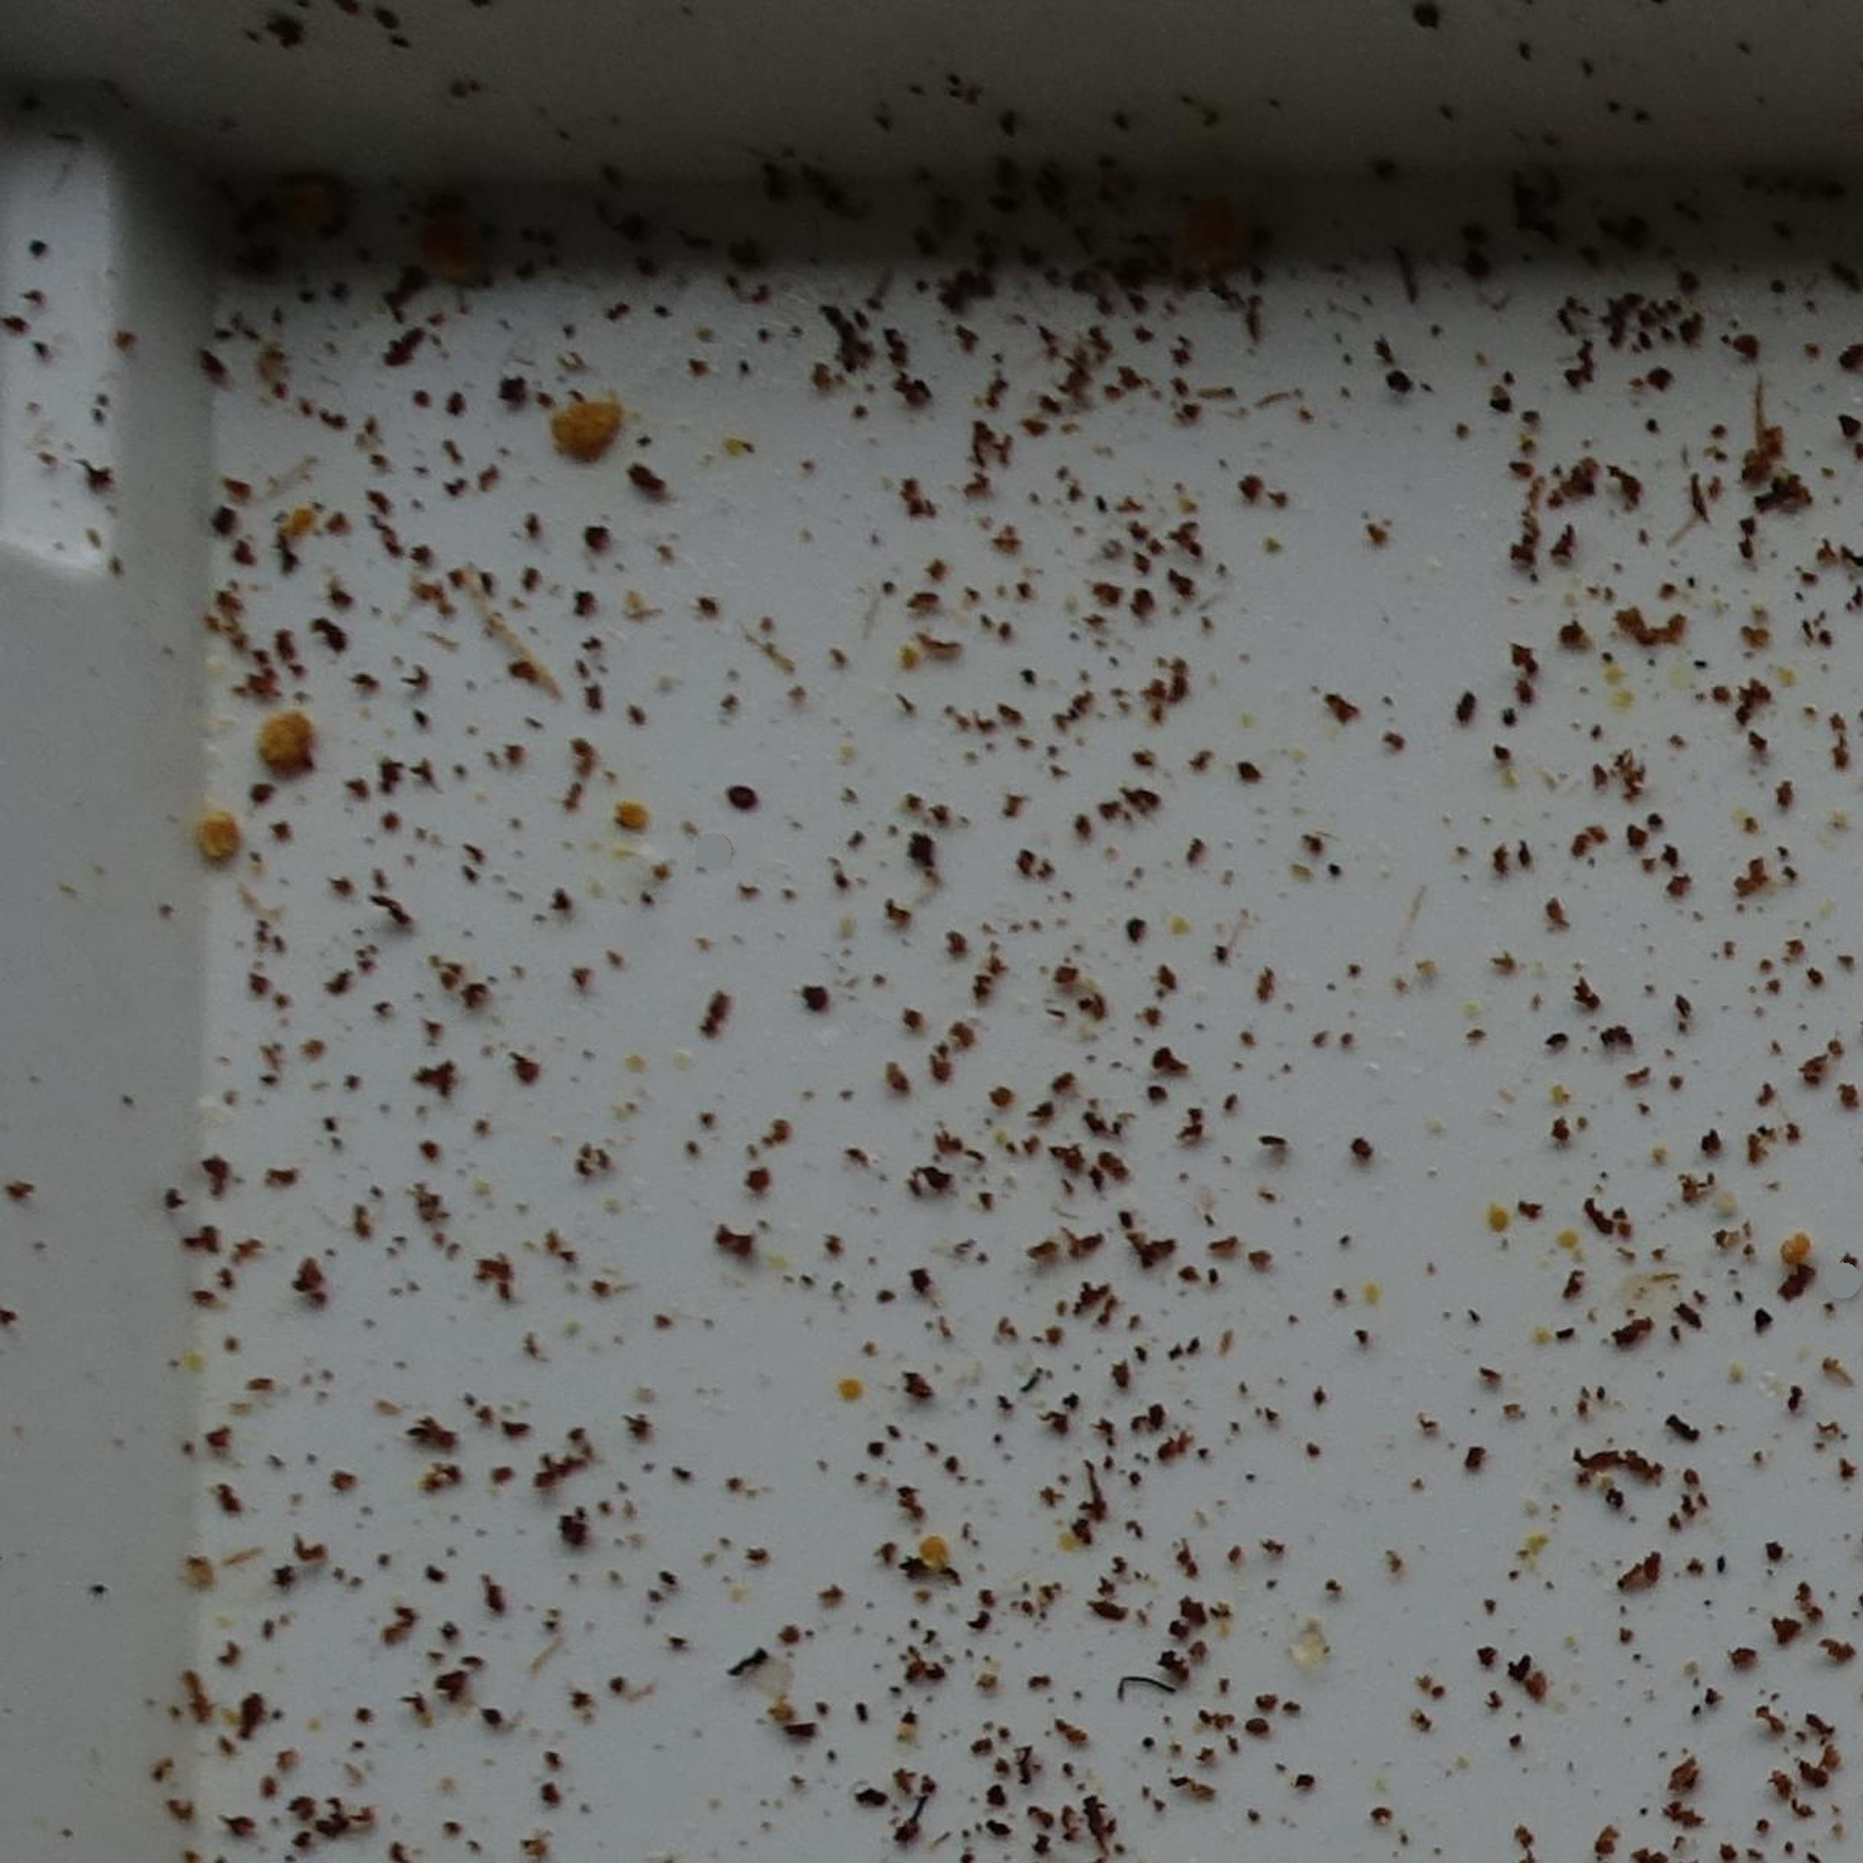Varroa: (728, 783, 757, 814)
